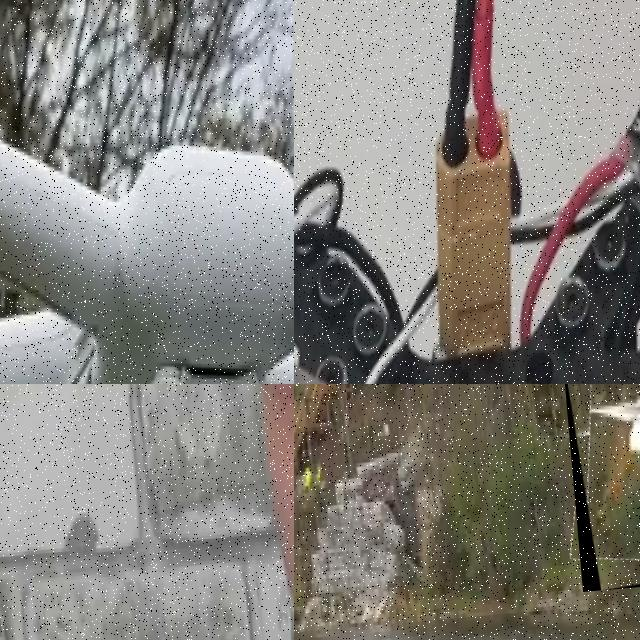drone: (294, 0, 640, 384), (0, 0, 294, 384), (561, 384, 640, 591)
